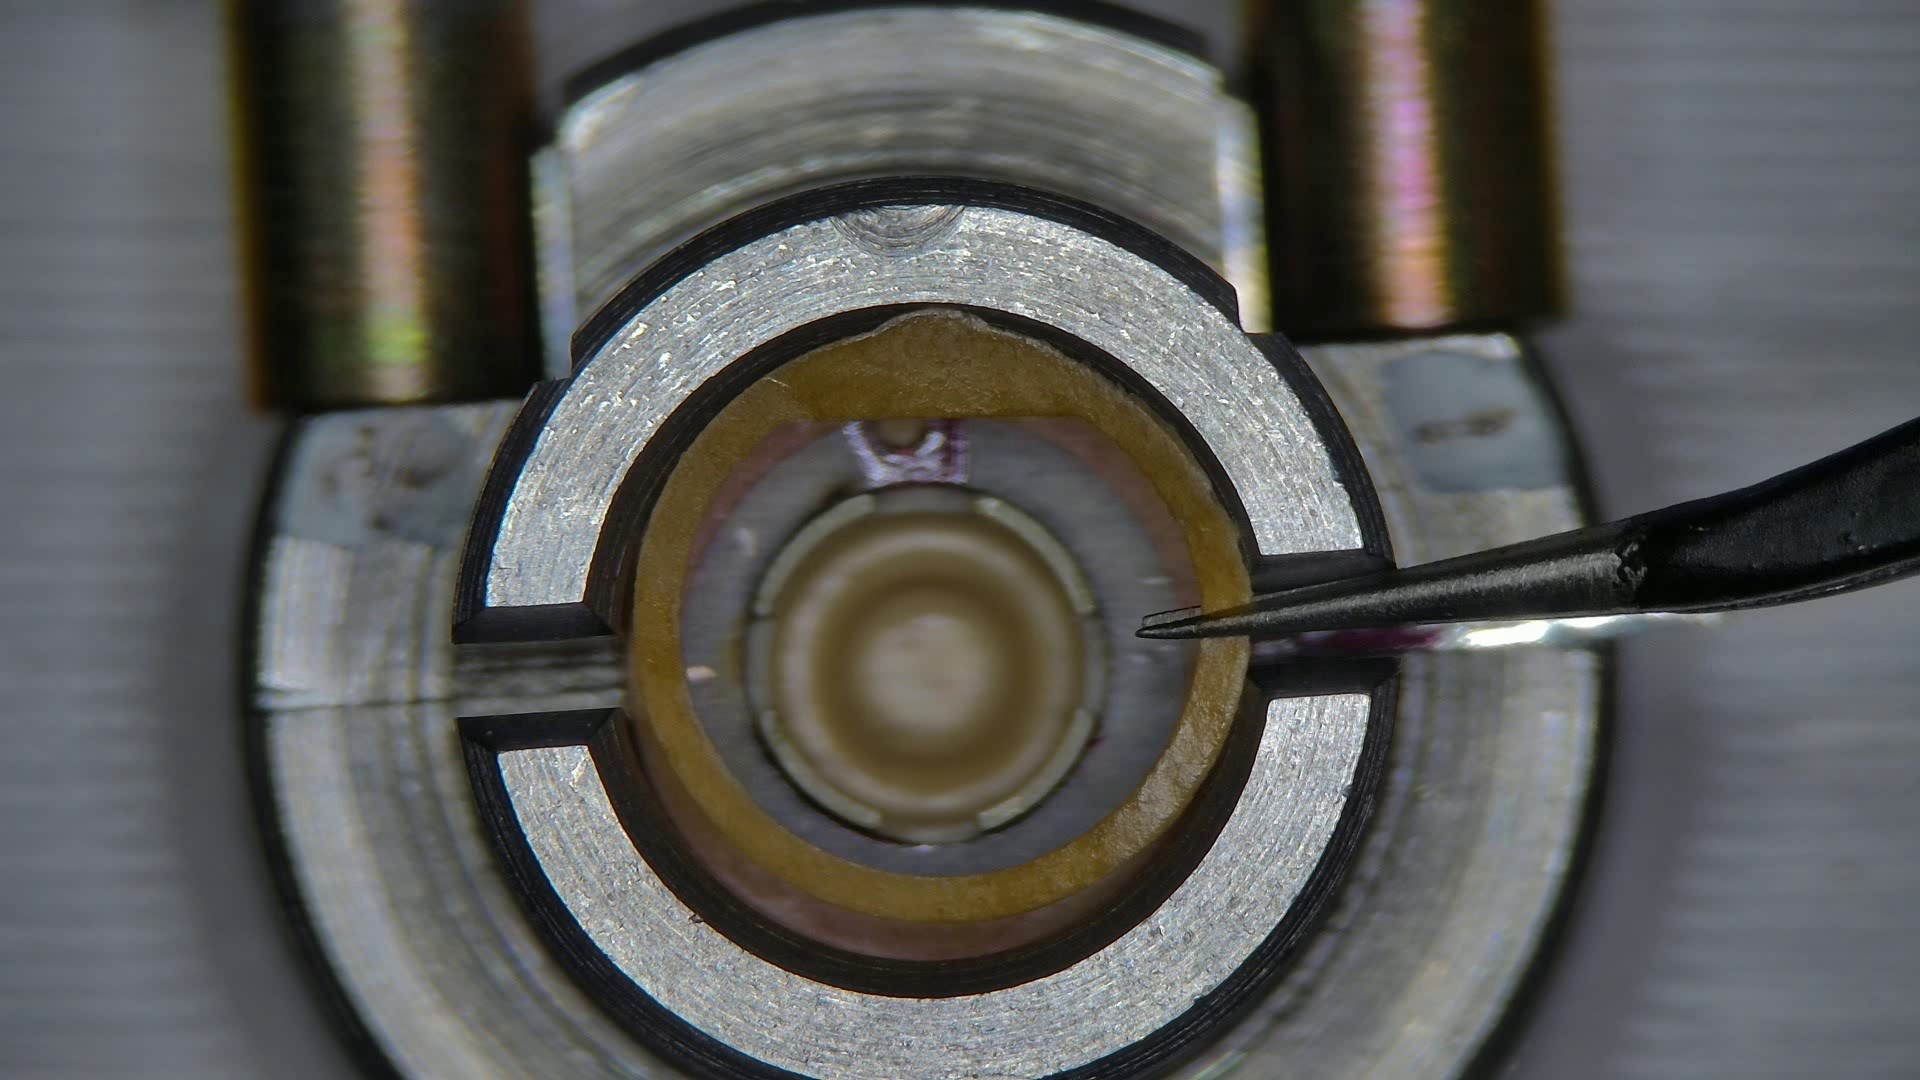GreyOring: (647, 744, 1113, 959), (1038, 410, 1196, 608), (700, 425, 831, 542)
YellowOring: (684, 421, 1189, 872)
redOring: (629, 315, 1249, 920), (1246, 315, 1249, 319)
